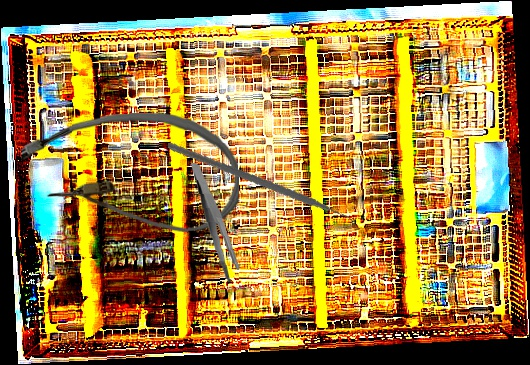Cannula: (19, 109, 241, 238)
Chopper: (167, 114, 356, 264)
Dressing Forceps: (190, 160, 241, 284)
